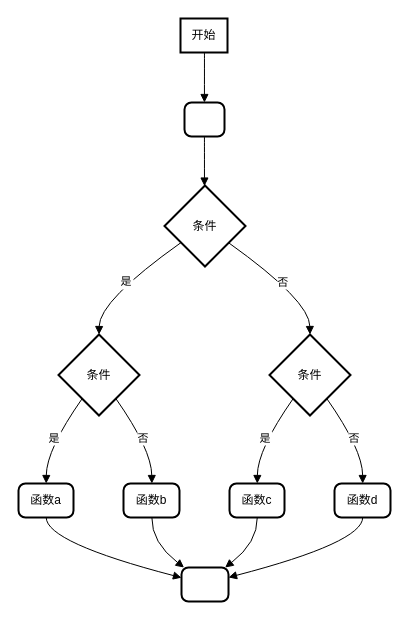
Image size: 408x619. Some labels were removed from this diagram. The centre of each missing label's shape, as x and y in pixels:
"类A" goes at pixel 204 119.
"结束" goes at pixel 204 584.
